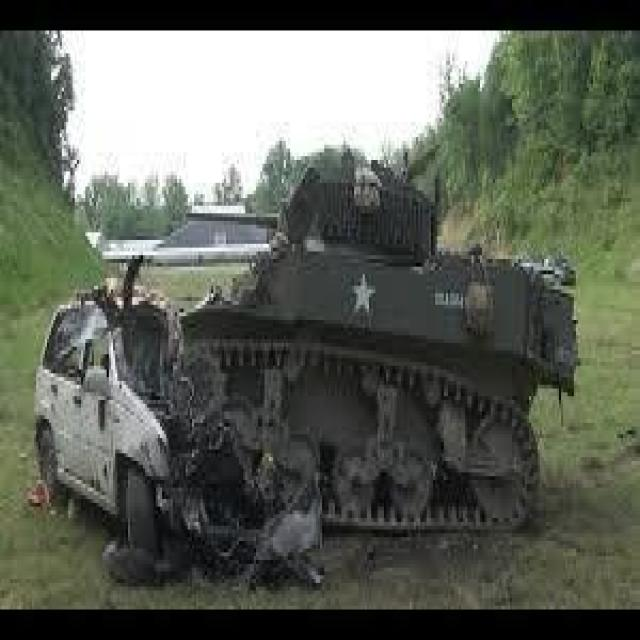Tanks: (181, 164, 578, 545)
